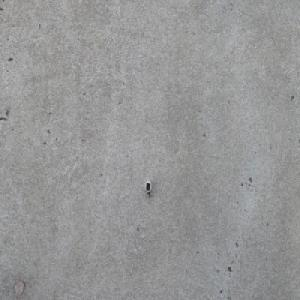MetalPart: (144, 179, 152, 200)
